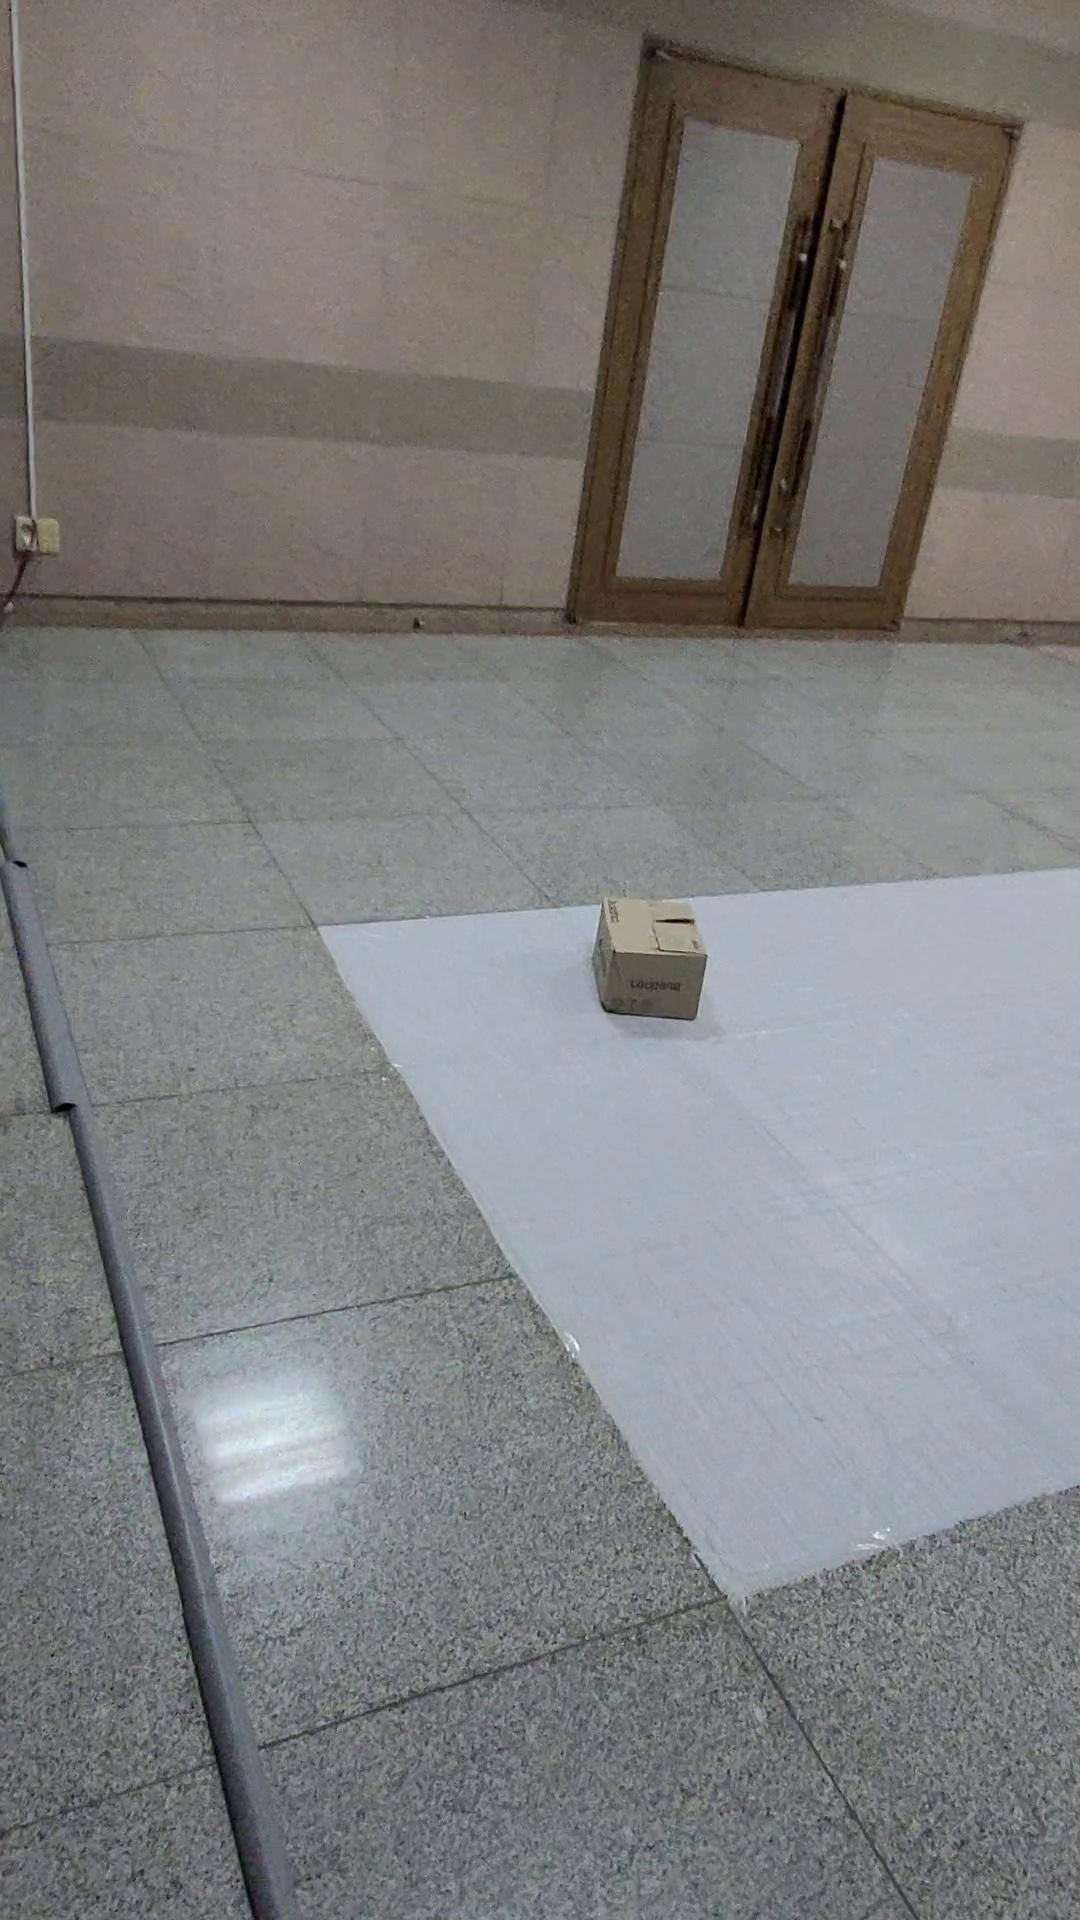Box: (501, 865, 757, 1062)
